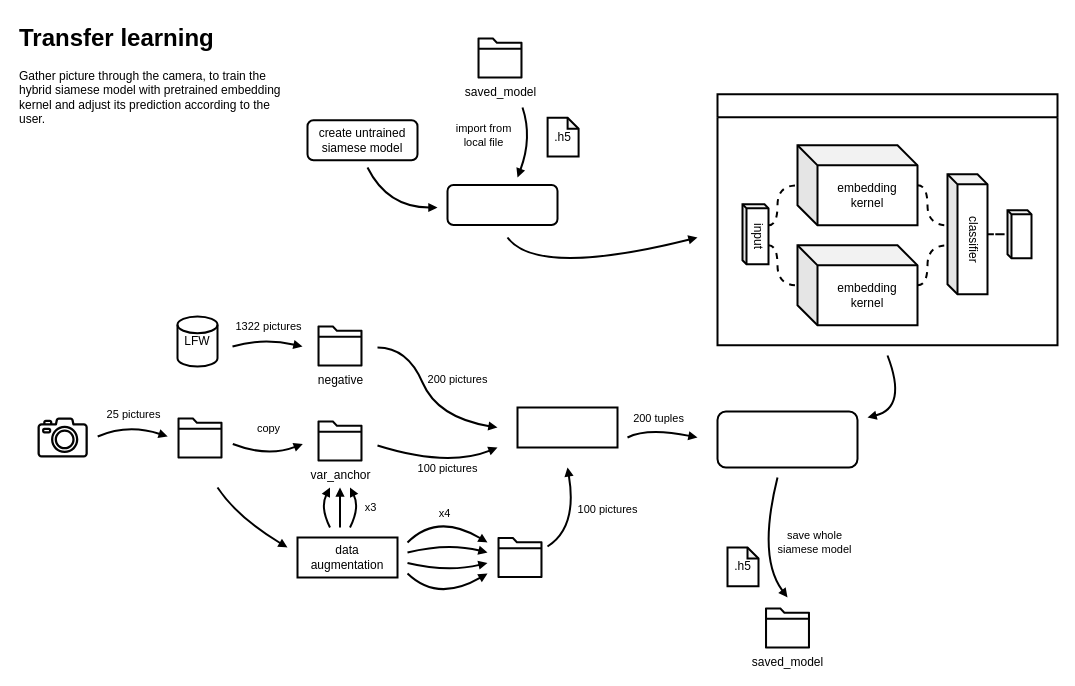
The diagram is 1075 pixels wide and 686 high, and some of its shapes have lost their labels. Each missing label, with the box of its shape:
adjust model through training: (716, 410, 858, 468)
anchor: (176, 416, 222, 458)
output: (1006, 209, 1032, 259)
positive: (496, 536, 542, 578)
preprocess data: (516, 406, 618, 448)
siamese model: (716, 93, 1058, 346)
transfer kernel on new model: (446, 184, 558, 226)
